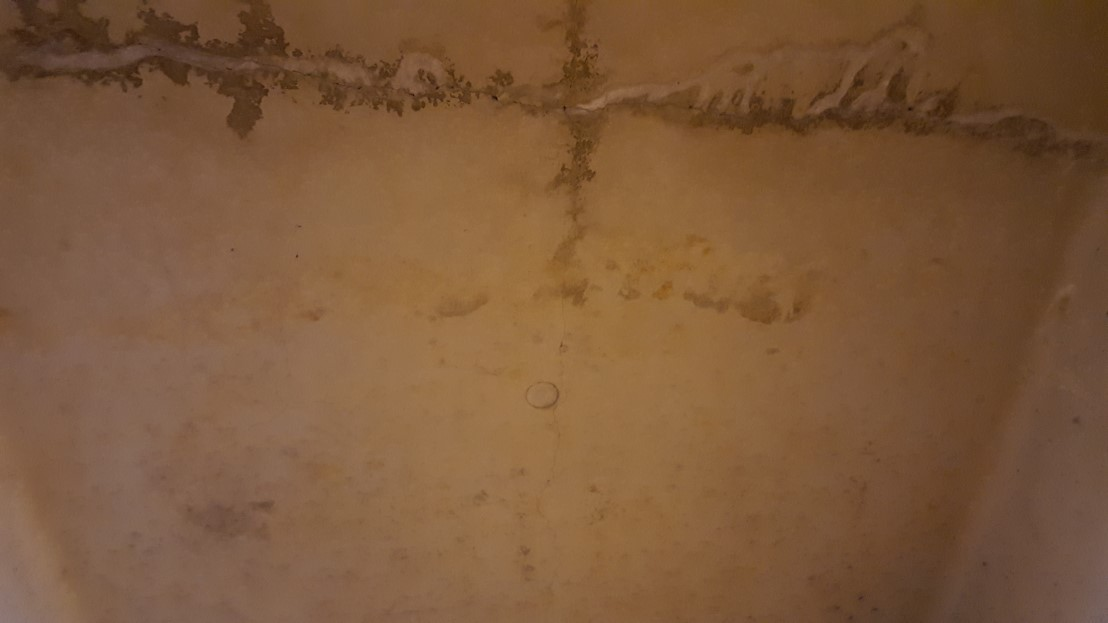Crack: (0, 0, 1108, 186), (542, 0, 623, 291), (544, 278, 590, 623)
